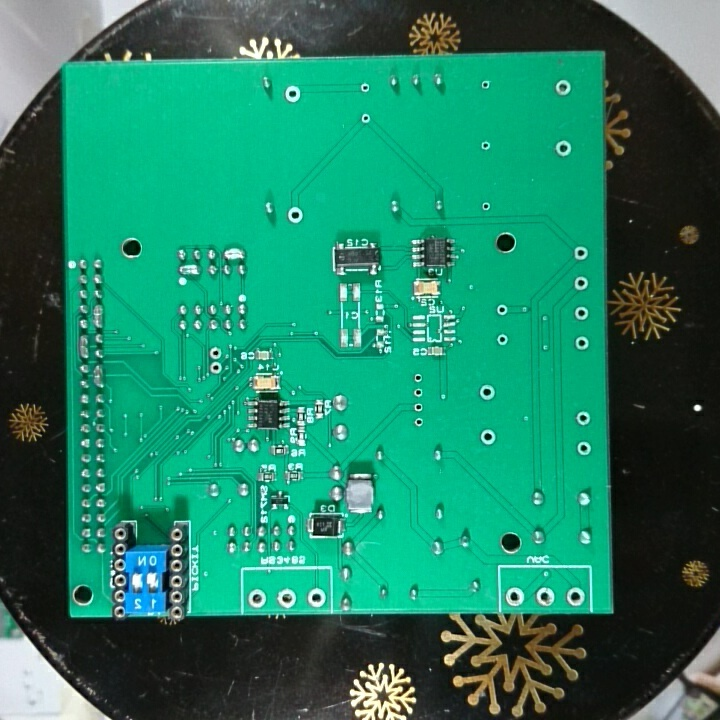F: (303, 583, 327, 609), (503, 583, 527, 607), (534, 584, 557, 609), (551, 76, 574, 100), (273, 586, 297, 608), (246, 585, 268, 609), (282, 82, 302, 106), (565, 585, 585, 608), (492, 300, 513, 321), (571, 243, 591, 264), (554, 138, 573, 160), (493, 330, 513, 350), (285, 204, 304, 225), (574, 409, 593, 429), (478, 427, 498, 446), (478, 381, 495, 403), (572, 273, 590, 293), (570, 305, 591, 322), (207, 360, 225, 378), (575, 439, 592, 458), (206, 343, 224, 360), (573, 334, 589, 353), (477, 198, 494, 215), (410, 415, 428, 431), (357, 80, 373, 96), (477, 138, 494, 153), (411, 400, 428, 415), (411, 369, 428, 384), (410, 386, 427, 400), (478, 77, 492, 92), (358, 110, 371, 126)
P: (222, 245, 247, 262), (177, 261, 202, 278), (90, 363, 107, 388), (91, 303, 105, 331), (77, 333, 91, 361)
